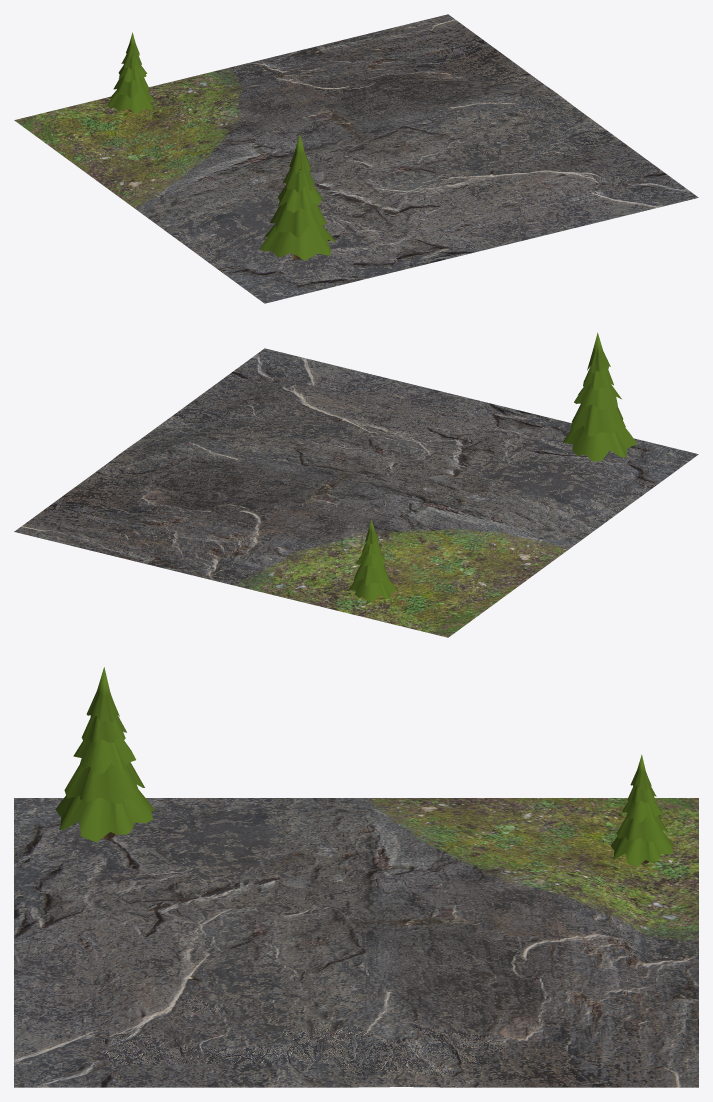
Rendered from FMMM.fbx.
The picture shows the model from 3 angles, top to bottom: view 1: azimuth 30°, elevation 25°; view 2: azimuth 150°, elevation 25°; view 3: azimuth 270°, elevation 25°; orthographic projection. The views are drawn at different scales.
Parts seen in each view (by area): view 1: Plane, Resource_PineTree_Group.031, Resource_PineTree_Group.032, Resource_PineTree_Group.033, Resource_PineTree_Group.005, Resource_PineTree_Group.004, Resource_PineTree_Group.034, Resource_PineTree_Group.035; view 2: Plane, Resource_PineTree_Group.031, Resource_PineTree_Group.032, Resource_PineTree_Group.033, Resource_PineTree_Group.005, Resource_PineTree_Group.004, Resource_PineTree_Group.035; view 3: Plane, Resource_PineTree_Group.031, Resource_PineTree_Group.032, Resource_PineTree_Group.033, Resource_PineTree_Group.005, Resource_PineTree_Group.004, Resource_PineTree_Group.034, Resource_PineTree_Group.035.
Part boxes in pixels (box(x1,y1,x2,y2)): Plane: box(14, 14, 698, 303); Resource_PineTree_Group.031: box(259, 224, 336, 260); Resource_PineTree_Group.032: box(270, 202, 326, 237); Resource_PineTree_Group.033: box(278, 185, 322, 212); Resource_PineTree_Group.005: box(107, 90, 155, 113); Resource_PineTree_Group.004: box(113, 76, 149, 98); Resource_PineTree_Group.034: box(282, 169, 314, 192); Resource_PineTree_Group.035: box(289, 133, 310, 174); Plane: box(14, 348, 698, 637); Resource_PineTree_Group.031: box(563, 425, 636, 461); Resource_PineTree_Group.032: box(570, 403, 625, 436); Resource_PineTree_Group.033: box(574, 383, 621, 409); Resource_PineTree_Group.005: box(349, 578, 396, 601); Resource_PineTree_Group.004: box(354, 565, 389, 585); Resource_PineTree_Group.035: box(587, 332, 610, 373); Plane: box(14, 798, 698, 1087); Resource_PineTree_Group.031: box(55, 790, 155, 842); Resource_PineTree_Group.032: box(64, 762, 144, 803); Resource_PineTree_Group.033: box(73, 739, 135, 773); Resource_PineTree_Group.005: box(610, 833, 674, 866); Resource_PineTree_Group.004: box(616, 815, 667, 841); Resource_PineTree_Group.034: box(81, 712, 126, 742); Resource_PineTree_Group.035: box(86, 667, 119, 722).
Size of the model in its own units: 500 by 145 by 500.
